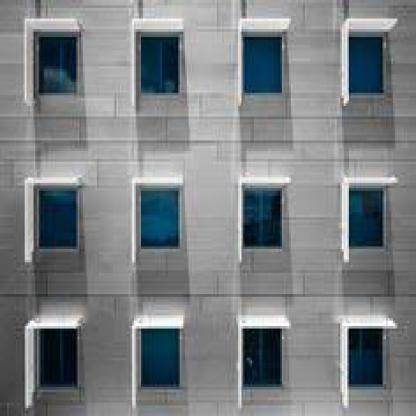window: (39, 331, 79, 387), (141, 331, 180, 387), (40, 191, 78, 246), (245, 37, 282, 93), (39, 37, 76, 93), (245, 334, 284, 387), (247, 193, 282, 249), (143, 34, 176, 93), (143, 194, 180, 246), (353, 191, 386, 246), (351, 331, 384, 384), (353, 37, 384, 93)
